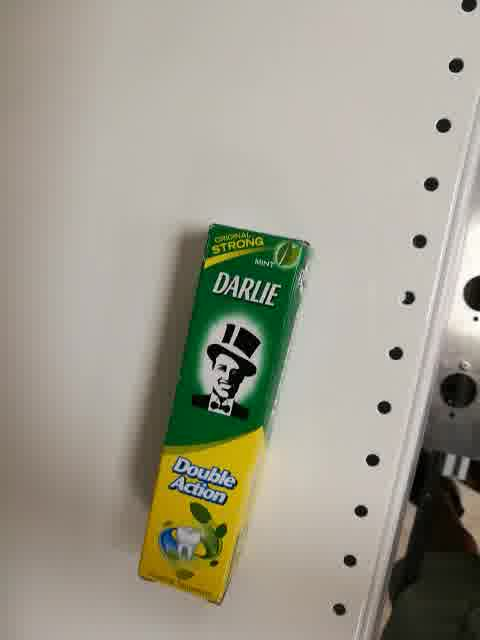toothpaste: (137, 223, 312, 609)
